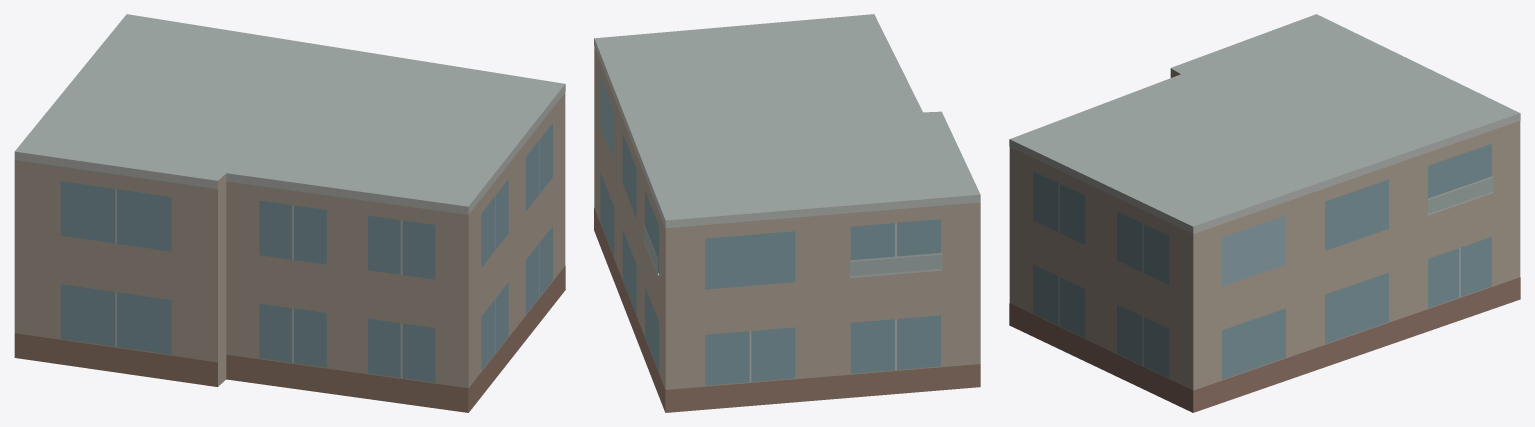
The model's file is survey-upis-32640766.glb.
3 views of the same model, side by side, from view 1: azimuth 30°, elevation 25°; view 2: azimuth 150°, elevation 25°; view 3: azimuth 270°, elevation 25° (orthographic). The views are drawn at different scales.
Visible parts, largest first — view 1: survey-upis-32640766.tmp; view 2: survey-upis-32640766.tmp; view 3: survey-upis-32640766.tmp.
Part boxes in pixels (bbox=[...]): survey-upis-32640766.tmp: bbox=[14, 14, 565, 412]; survey-upis-32640766.tmp: bbox=[594, 14, 980, 412]; survey-upis-32640766.tmp: bbox=[1009, 14, 1520, 412].
Bounding box in the file's own units: 14.95 × 6.1 × 15.18.
